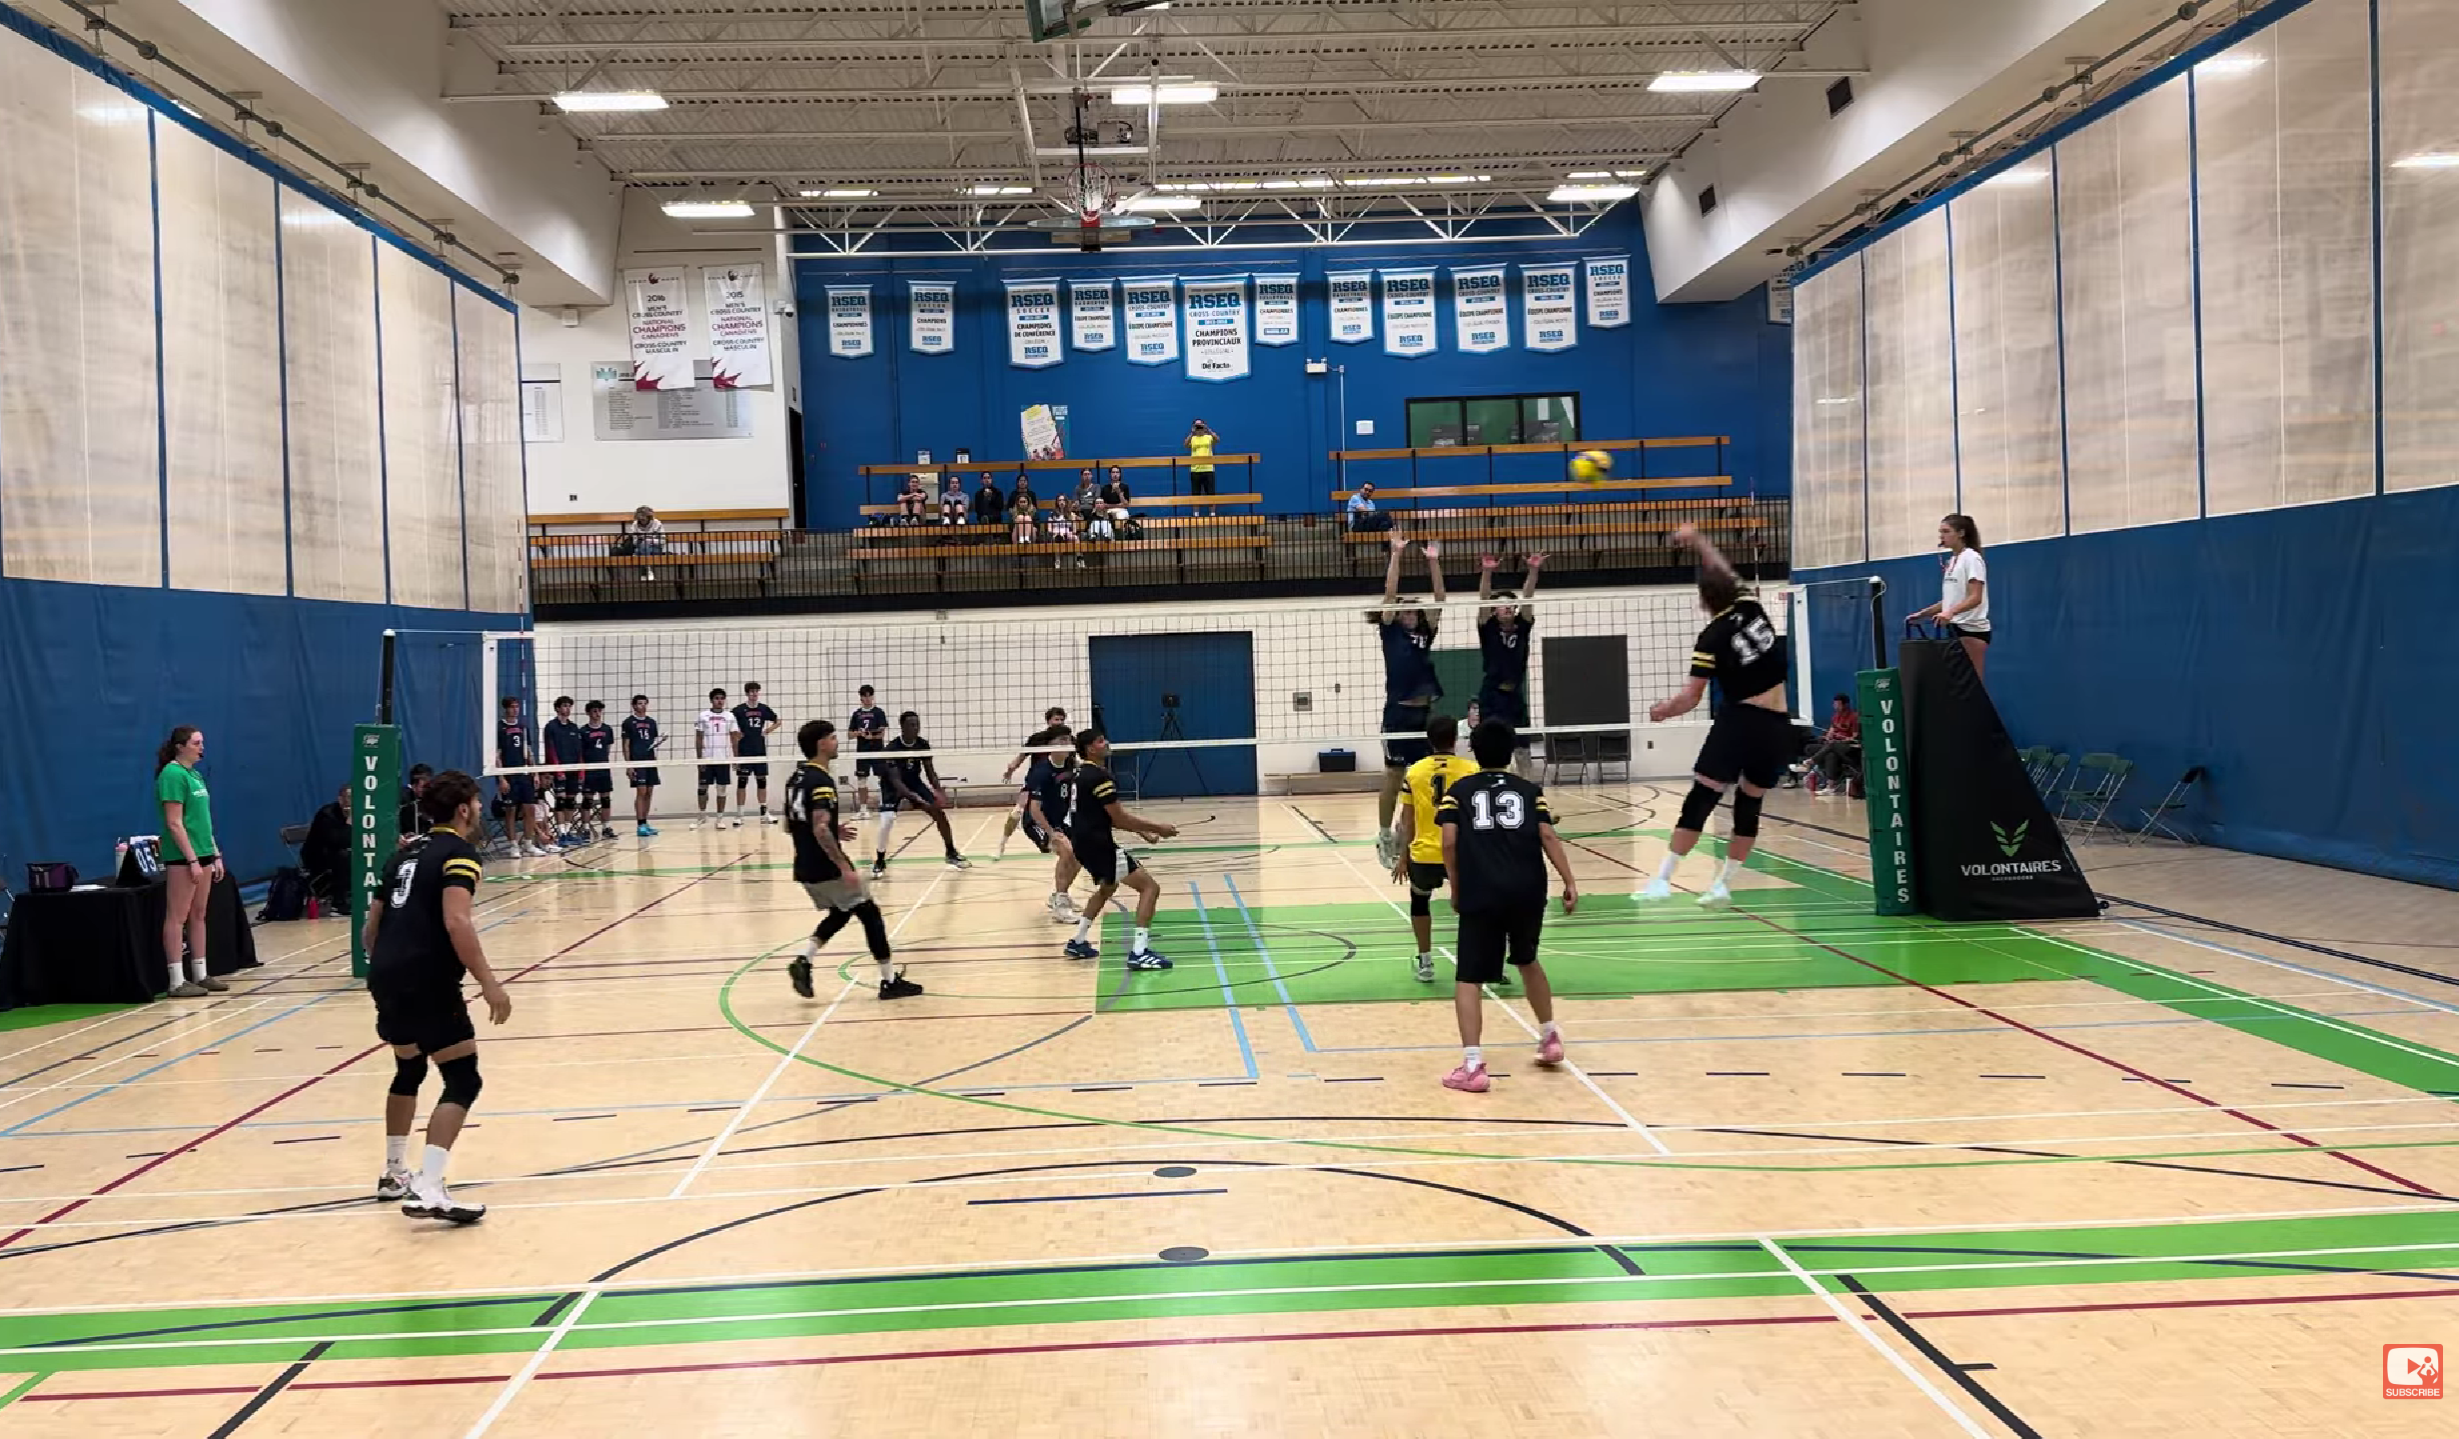Ball: (1567, 447, 1617, 492)
